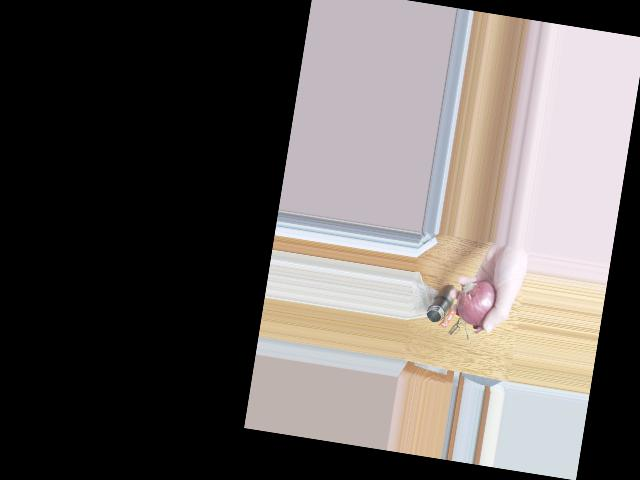onion: (460, 280, 503, 324)
